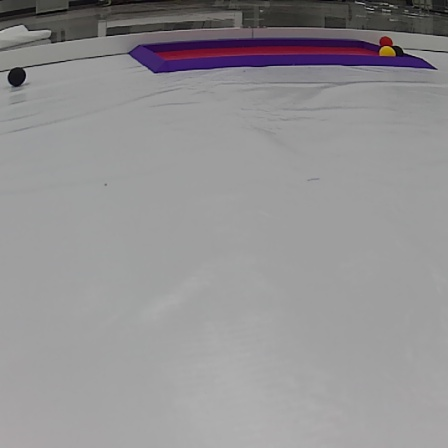black: (5, 67, 31, 86), (396, 45, 403, 55)
red: (379, 35, 393, 45)
red_aim: (127, 37, 435, 72)
yellow: (376, 47, 394, 58)
